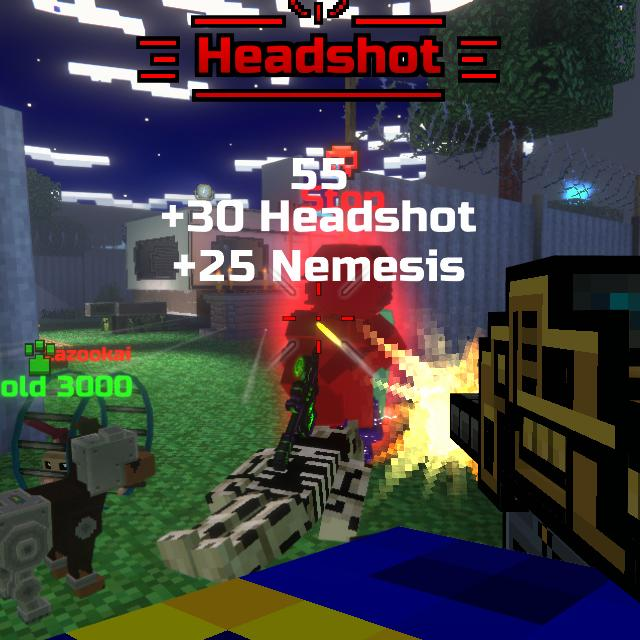Enemy: (280, 239, 401, 429)
